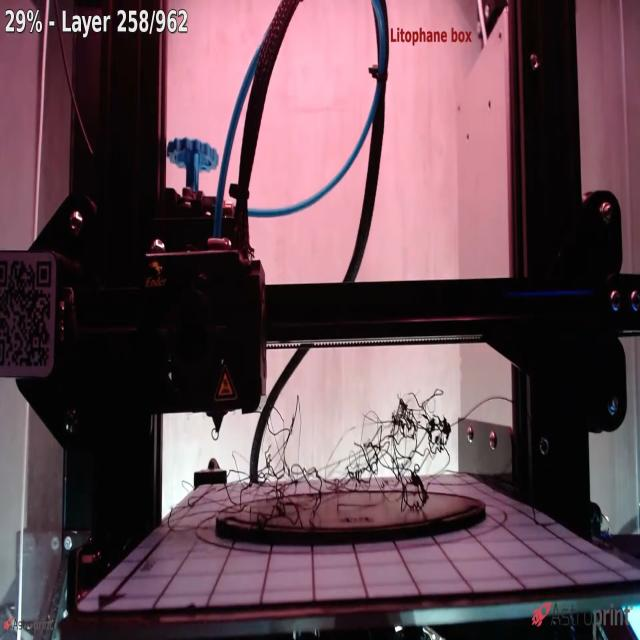spaghetti: (189, 388, 477, 539)
